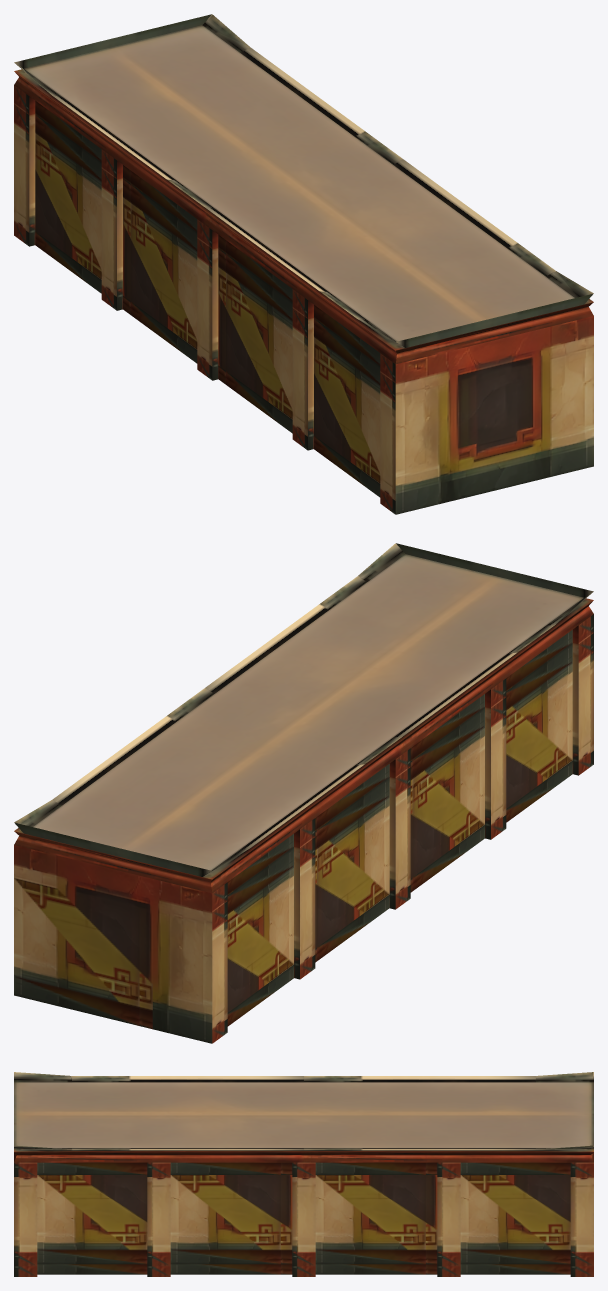
The model's file is LM_Graumans_ForecourtWall.fbx.
3 renders of one model, top to bottom at view 1: azimuth 30°, elevation 25°; view 2: azimuth 150°, elevation 25°; view 3: azimuth 270°, elevation 25°, orthographic. The views are drawn at different scales.
Visible parts, largest first — view 1: LM_Graumans_ForecourtWall; view 2: LM_Graumans_ForecourtWall; view 3: LM_Graumans_ForecourtWall.
Part boxes in pixels (x1,y1,x2,y2): LM_Graumans_ForecourtWall: [14, 14, 593, 514]; LM_Graumans_ForecourtWall: [14, 543, 593, 1043]; LM_Graumans_ForecourtWall: [14, 1072, 593, 1276].
Size of the model in its own units: 6 by 20 by 5.
1 material, 1 textured.
